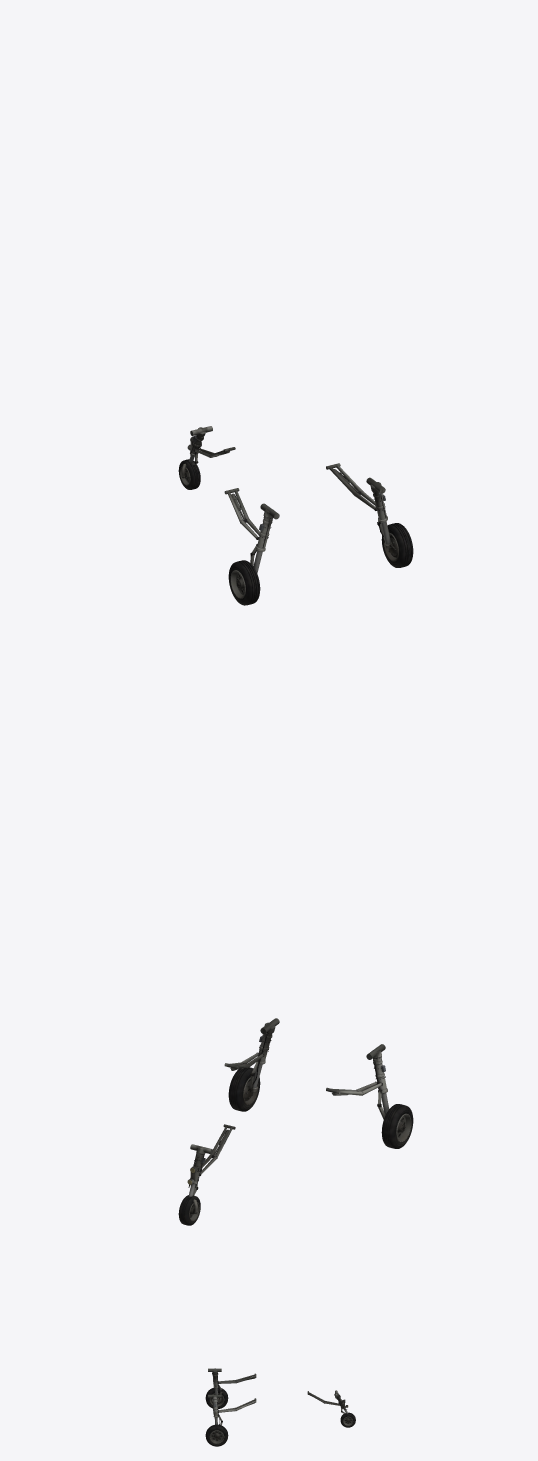
File: f16_gear.glb
3 views of the same model, one above another, from view 1: azimuth 30°, elevation 25°; view 2: azimuth 150°, elevation 25°; view 3: azimuth 270°, elevation 25° (orthographic). The views are drawn at different scales.
Parts seen in each view (by area): view 1: body|F16_paint; view 2: body|F16_paint; view 3: body|F16_paint.
Boxes of the visible parts, x1,y1,x2,y2 form: body|F16_paint: [178, 426, 413, 605]; body|F16_paint: [178, 1018, 413, 1225]; body|F16_paint: [205, 1368, 355, 1446].
Size of the model in its own units: 2.84 by 5.61 by 15.
Materials: 1 (1 with a texture image).
